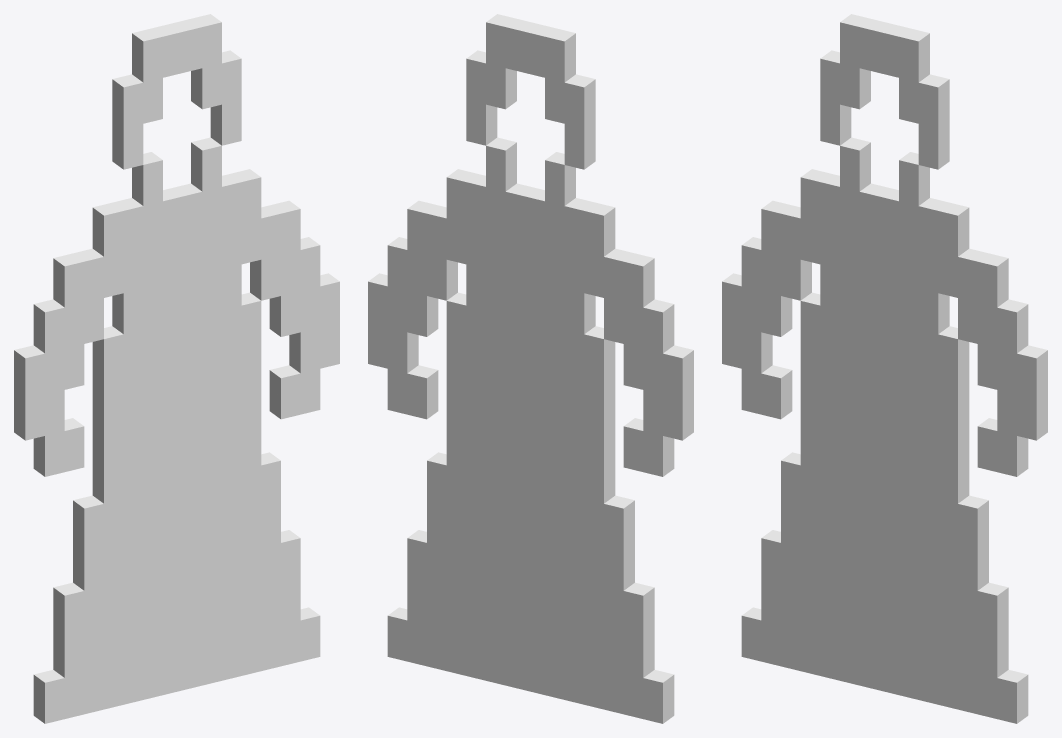
Rendered from Wraith-White.vox.obj.
3 views of the same model, side by side, from view 1: azimuth 30°, elevation 25°; view 2: azimuth 150°, elevation 25°; view 3: azimuth 330°, elevation 25° (orthographic).
Size of the model in its own units: 1.6 by 3.2 by 0.1.
1 material, 1 textured.
